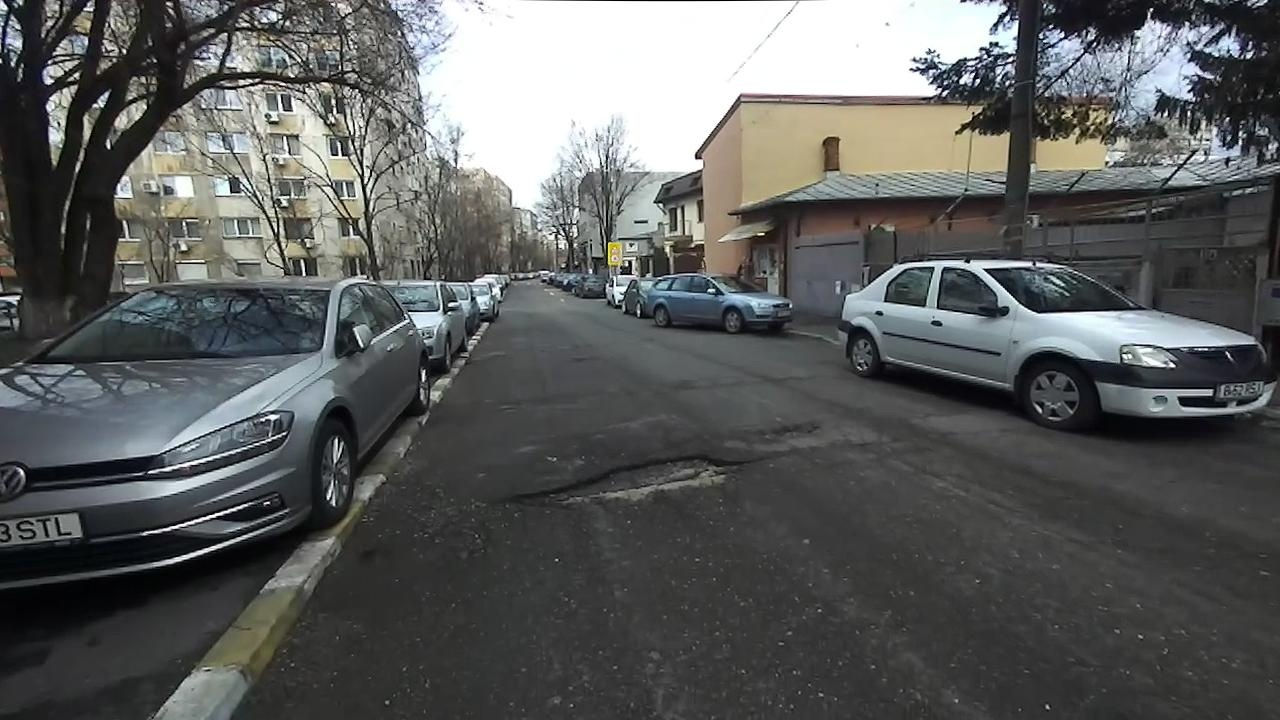pothole: (500, 450, 776, 507), (749, 412, 825, 441)
